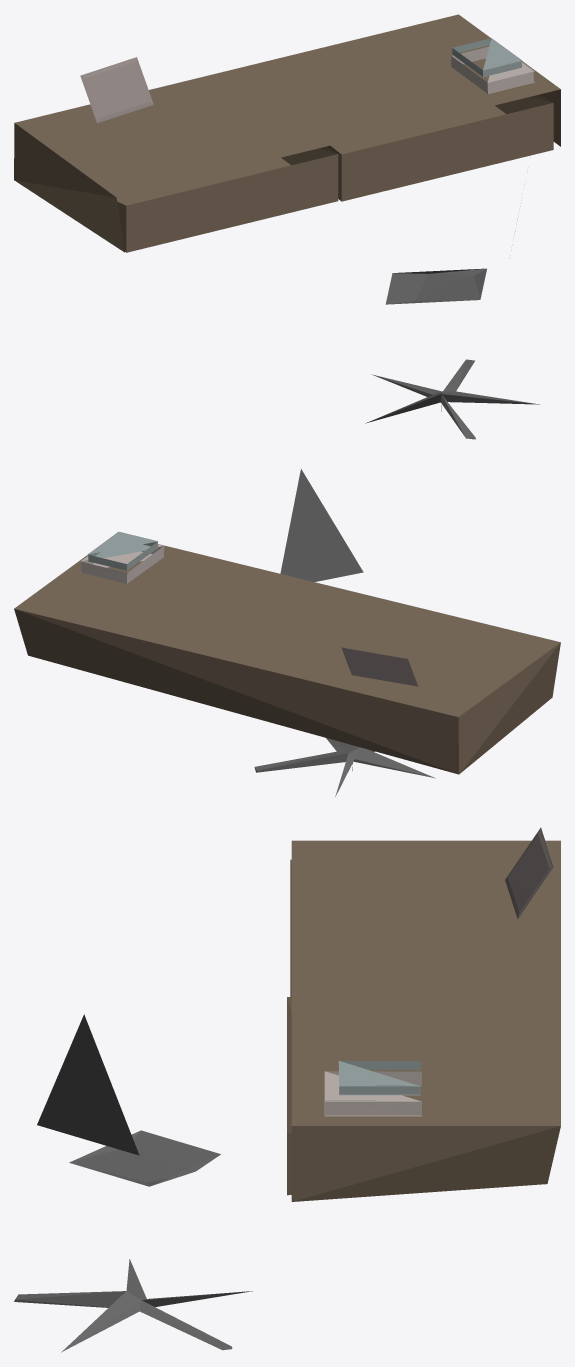
Rendered from desk-set.lod2.glb.
3 renders of one model, top to bottom at view 1: azimuth 30°, elevation 25°; view 2: azimuth 150°, elevation 25°; view 3: azimuth 270°, elevation 25°, orthographic. The views are drawn at different scales.
Visible parts, largest first — view 1: Desk_Desk_0; view 2: Desk_Desk_0; view 3: Desk_Desk_0.
Part boxes in pixels (box(x1,y1,x2,y2)): Desk_Desk_0: box(14, 14, 560, 439); Desk_Desk_0: box(14, 469, 560, 796); Desk_Desk_0: box(14, 827, 560, 1352).
Bounding box in the file's own units: 2 × 1.18 × 1.62.
